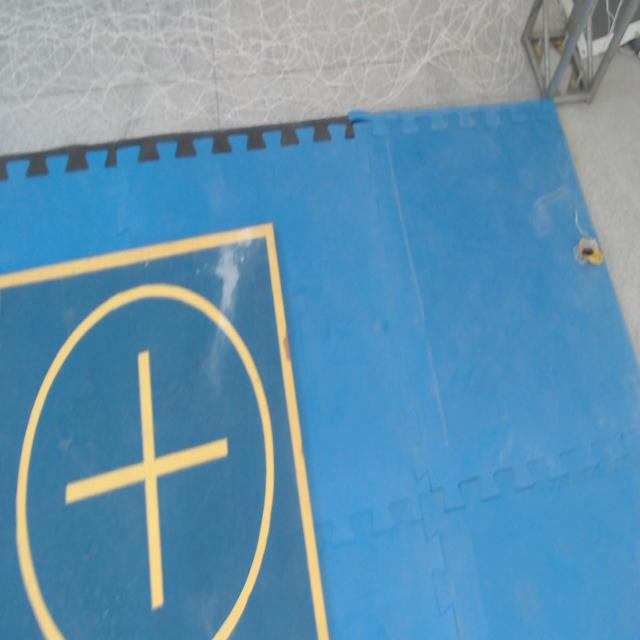base_pouso: (0, 223, 332, 639)
